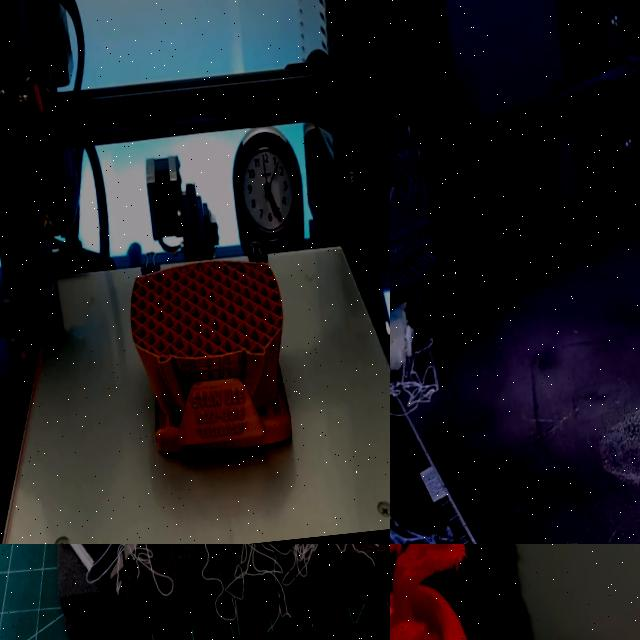spaghetti: (390, 341, 464, 441), (102, 544, 179, 607), (390, 492, 471, 544)
